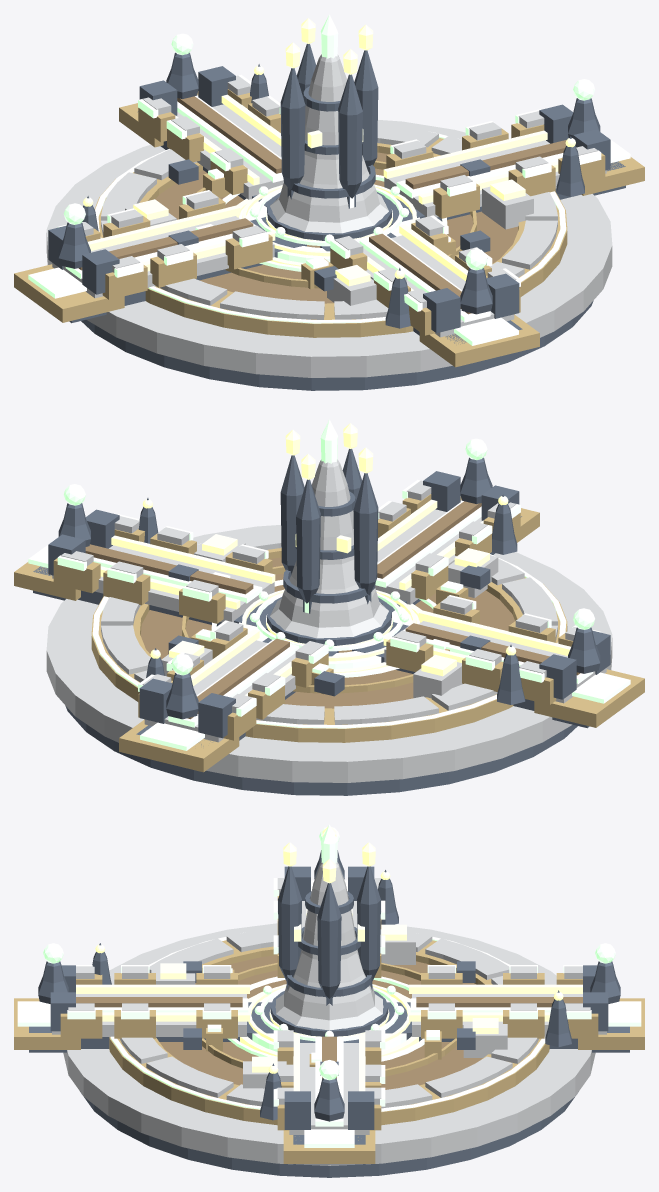
File: base_jupiter.glb
3 renders of one model, top to bottom at view 1: azimuth 30°, elevation 25°; view 2: azimuth 150°, elevation 25°; view 3: azimuth 270°, elevation 25°, orthographic. The views are drawn at different scales.
Visible parts, largest first — view 1: MATERIAL_ivory, MATERIAL_gunmetal, MATERIAL_gold, MATERIAL_green, MATERIAL_lime, MATERIAL_brass; view 2: MATERIAL_ivory, MATERIAL_gunmetal, MATERIAL_gold, MATERIAL_green, MATERIAL_lime, MATERIAL_brass; view 3: MATERIAL_ivory, MATERIAL_gunmetal, MATERIAL_gold, MATERIAL_green, MATERIAL_lime, MATERIAL_brass.
Boxes of the visible parts, bbox=[...] form: MATERIAL_ivory: bbox=[46, 54, 612, 377]; MATERIAL_gunmetal: bbox=[48, 44, 625, 390]; MATERIAL_gold: bbox=[14, 89, 644, 367]; MATERIAL_green: bbox=[28, 14, 630, 345]; MATERIAL_lime: bbox=[83, 18, 575, 290]; MATERIAL_brass: bbox=[78, 96, 566, 314]; MATERIAL_ivory: bbox=[46, 459, 612, 782]; MATERIAL_gunmetal: bbox=[33, 449, 610, 795]; MATERIAL_gold: bbox=[14, 494, 644, 772]; MATERIAL_green: bbox=[28, 419, 630, 750]; MATERIAL_lime: bbox=[100, 423, 570, 695]; MATERIAL_brass: bbox=[85, 501, 580, 719]; MATERIAL_ivory: bbox=[52, 862, 606, 1165]; MATERIAL_gunmetal: bbox=[29, 850, 629, 1177]; MATERIAL_gold: bbox=[14, 895, 644, 1163]; MATERIAL_green: bbox=[17, 824, 641, 1147]; MATERIAL_lime: bbox=[76, 827, 582, 1091]; MATERIAL_brass: bbox=[76, 955, 582, 1089].
Bounding box in the file's own units: 11.5 × 4.95 × 11.5.
